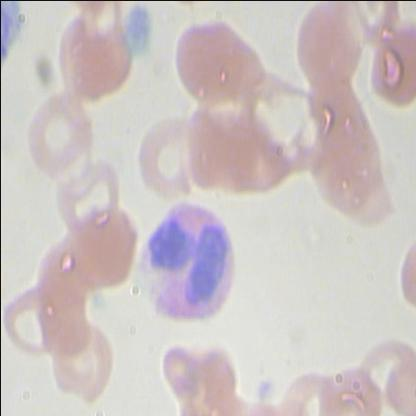Platelets: (125, 2, 154, 53), (250, 371, 278, 401)
RBC: (169, 11, 266, 108), (43, 1, 134, 101), (22, 73, 100, 179), (127, 103, 204, 209), (51, 130, 128, 236), (65, 195, 142, 300), (286, 0, 367, 96), (222, 99, 287, 195), (336, 134, 400, 230), (32, 222, 98, 312), (34, 269, 100, 359), (49, 312, 115, 402), (0, 274, 64, 366), (363, 10, 415, 116), (351, 330, 415, 410), (329, 363, 389, 415), (275, 363, 335, 415)
WBC: (135, 194, 244, 338)
